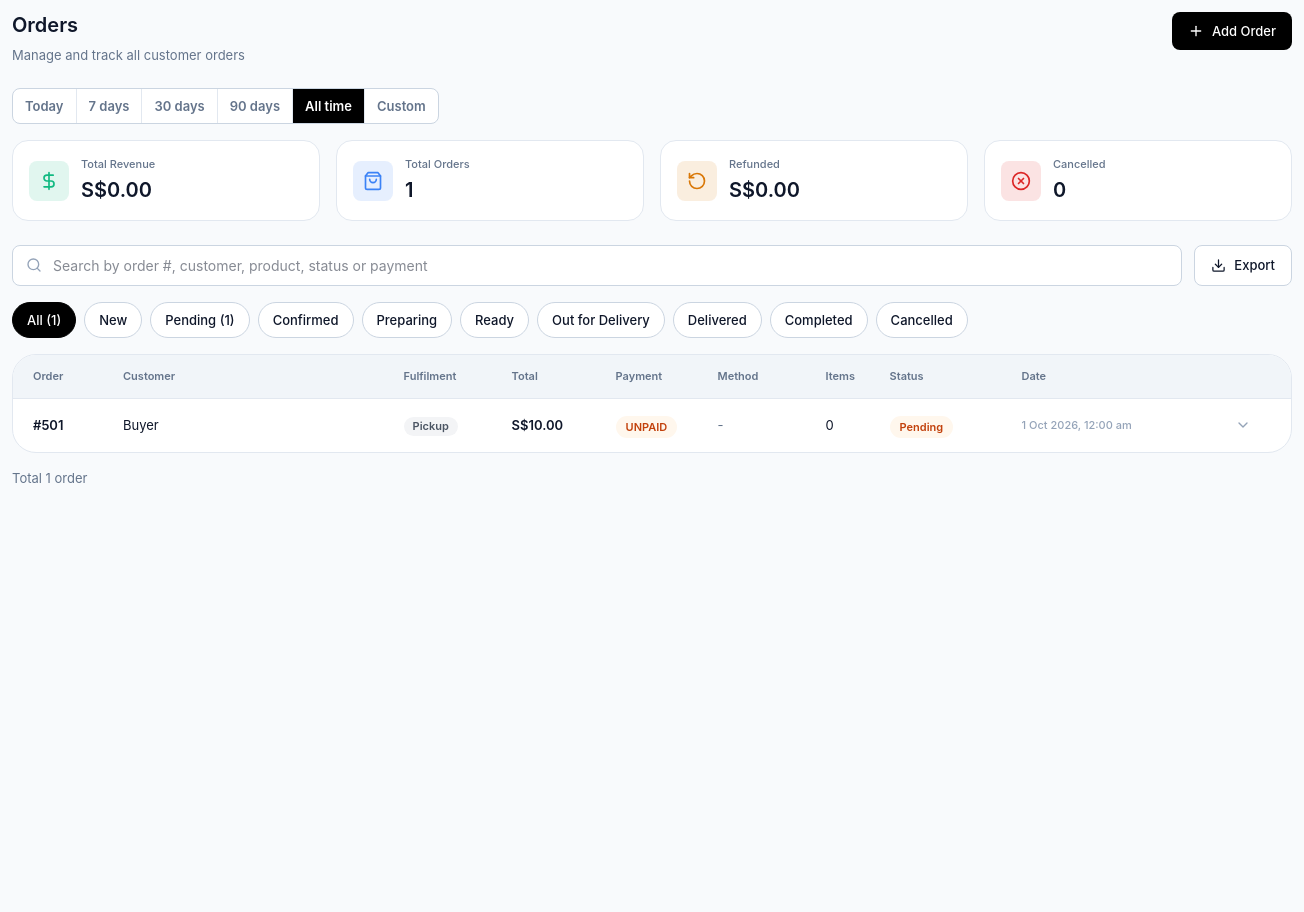
Test: Orders admin read-only vs editable › editable: Add Order and the status/payment change buttons are present
The image size is (1304, 912).
Expected: the button "Add Order" is shown, [1172,12,1292,50]
What coordinates should you click on to do the following:
click the text "Buyer"
I would click on:
 (141, 425)
Its box is [123,417,159,433].
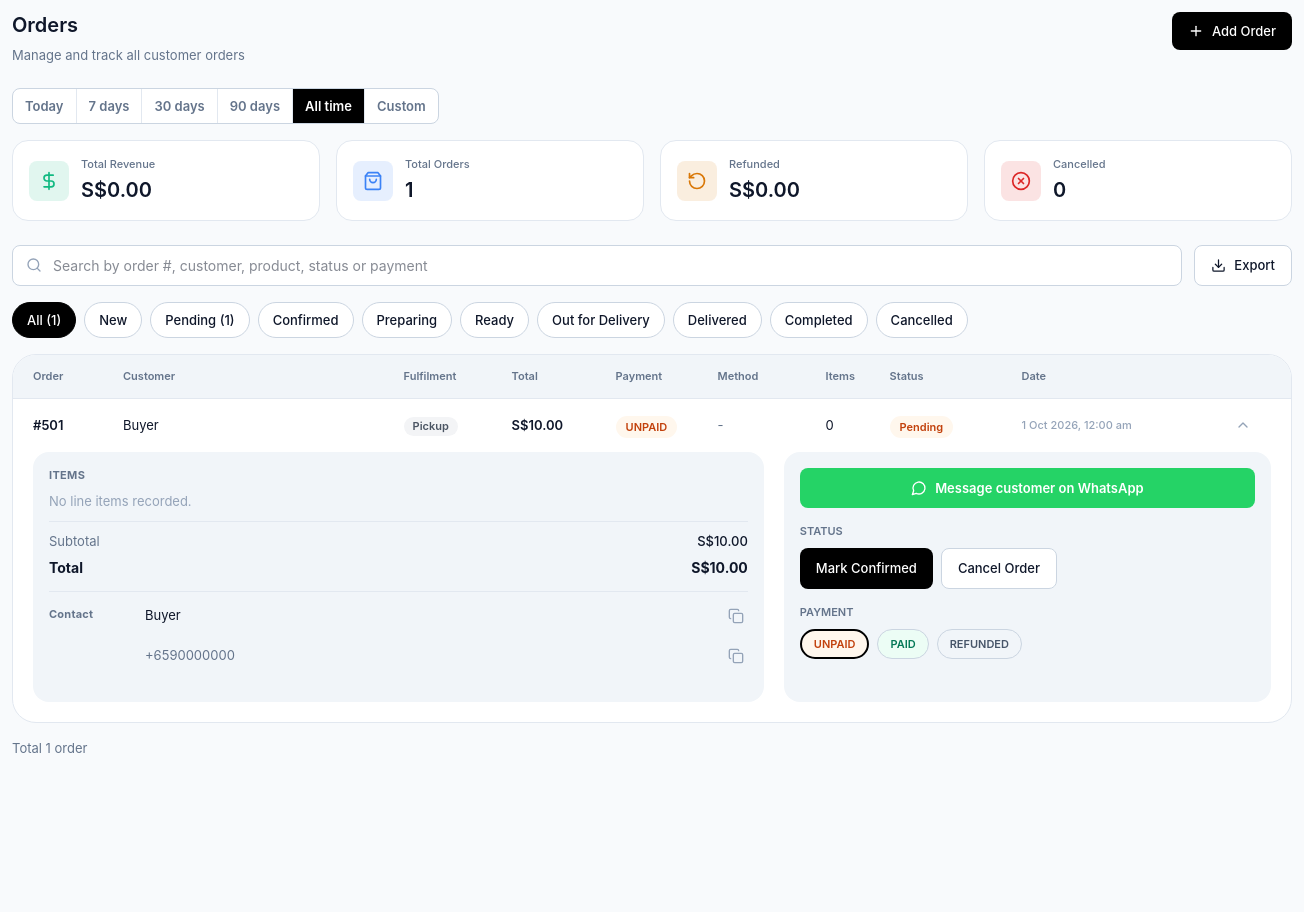
Expected: the button "PAID" is shown, [878,629,929,659]
